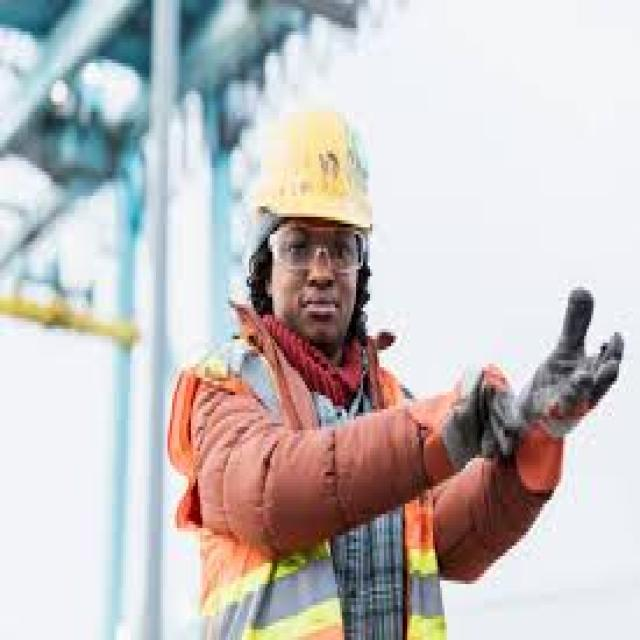gloved: (519, 278, 624, 490), (409, 354, 522, 478)
